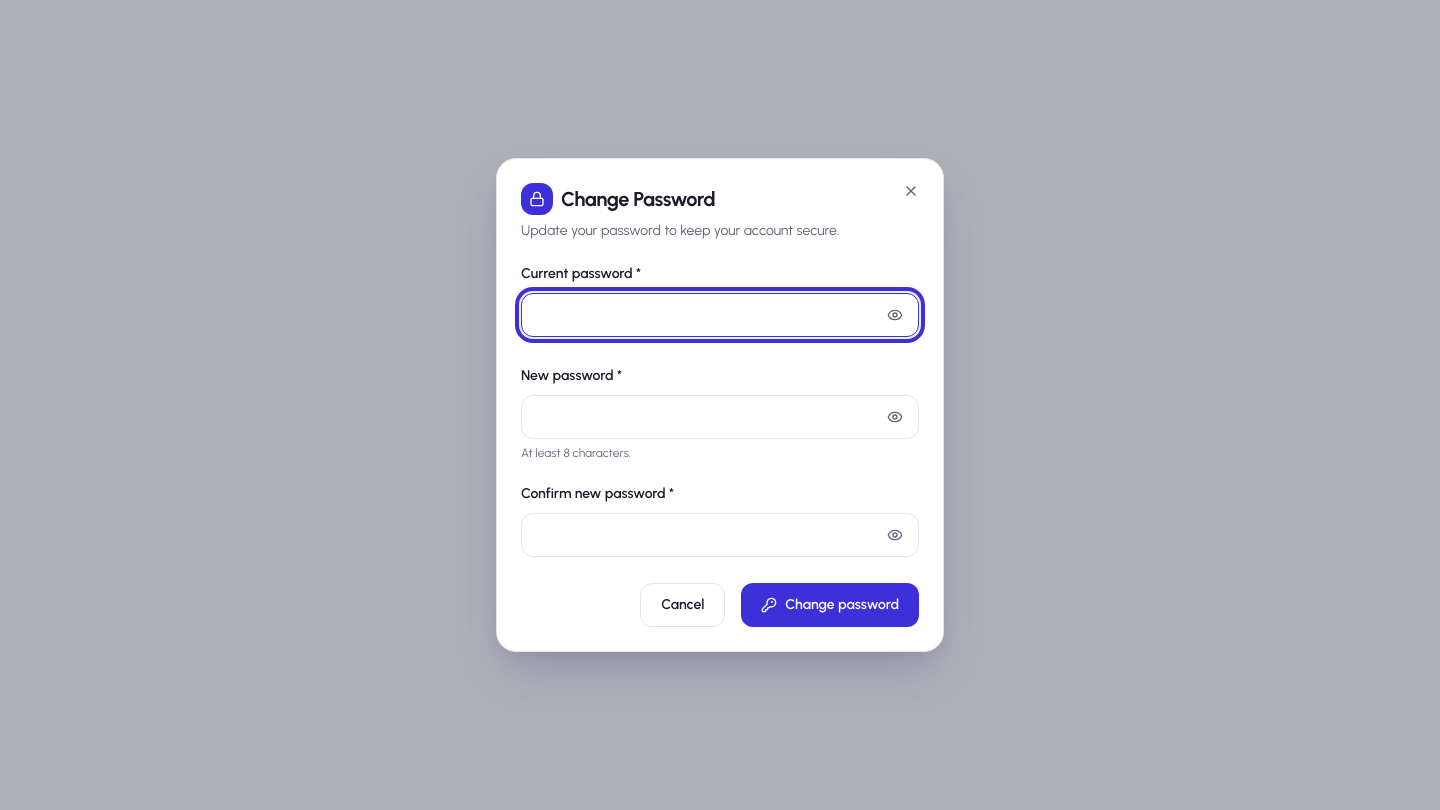
ChangePasswordDialog › catches a mismatch and a reused password
This screenshot has width=1440, height=810.
Type "Old-Passw0rd" into the password field labelled "Current password *" at [720, 315], box [521,293,919,337]
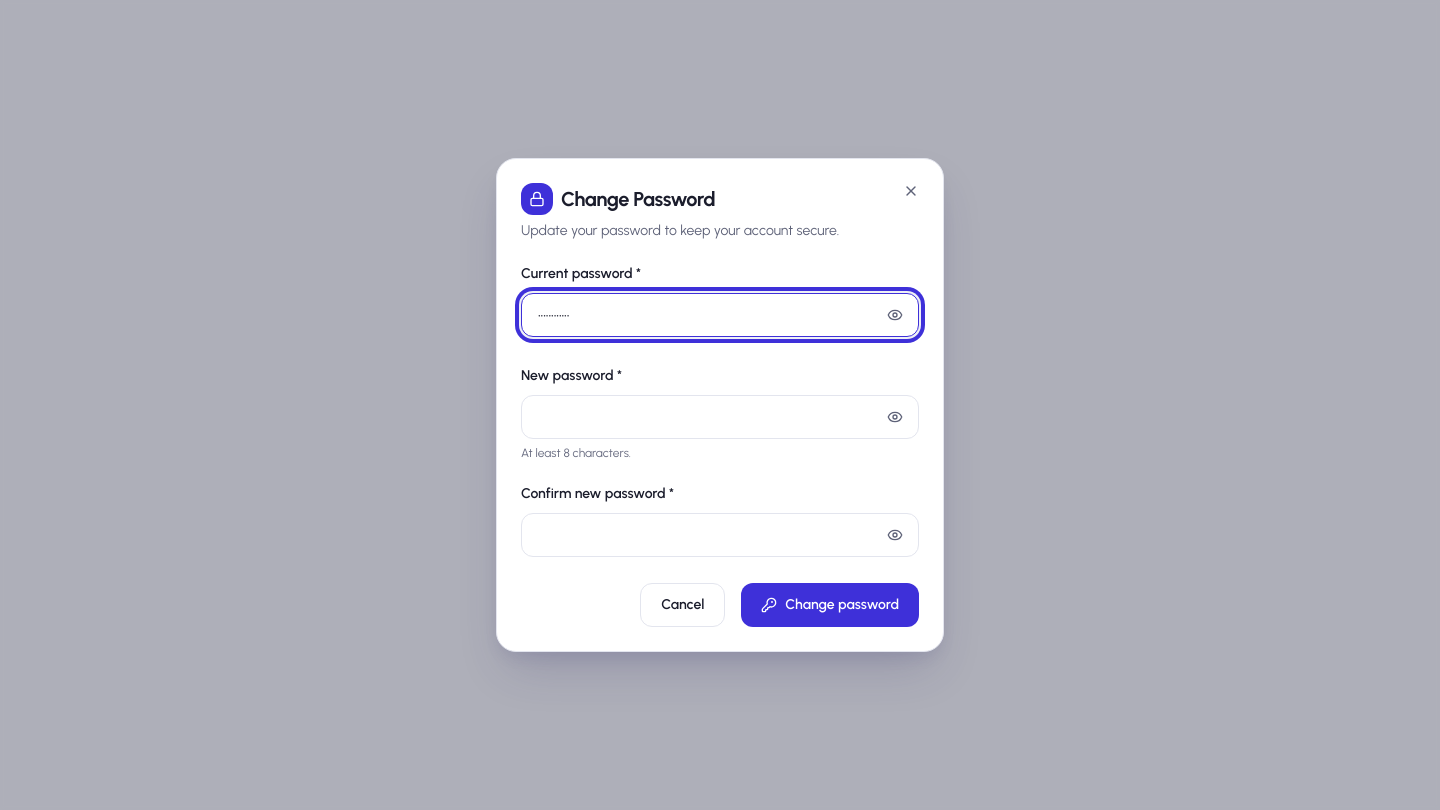
Type "Quiet-River-83" into the password field labelled "New password *" at [720, 417], box [521,395,919,439]
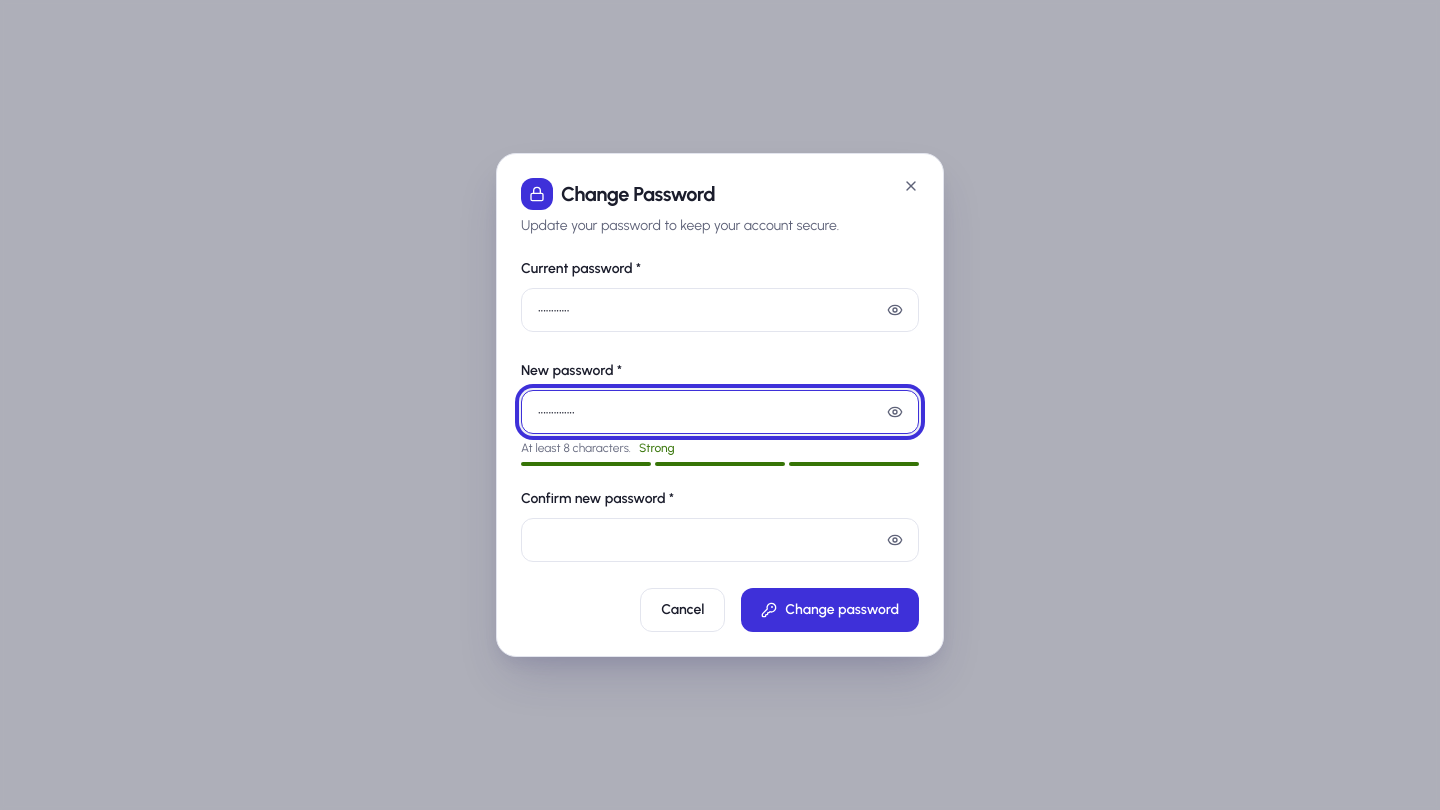
Type "Quiet-River-84" into the password field labelled "Confirm new password *" at [720, 540], box [521,518,919,562]
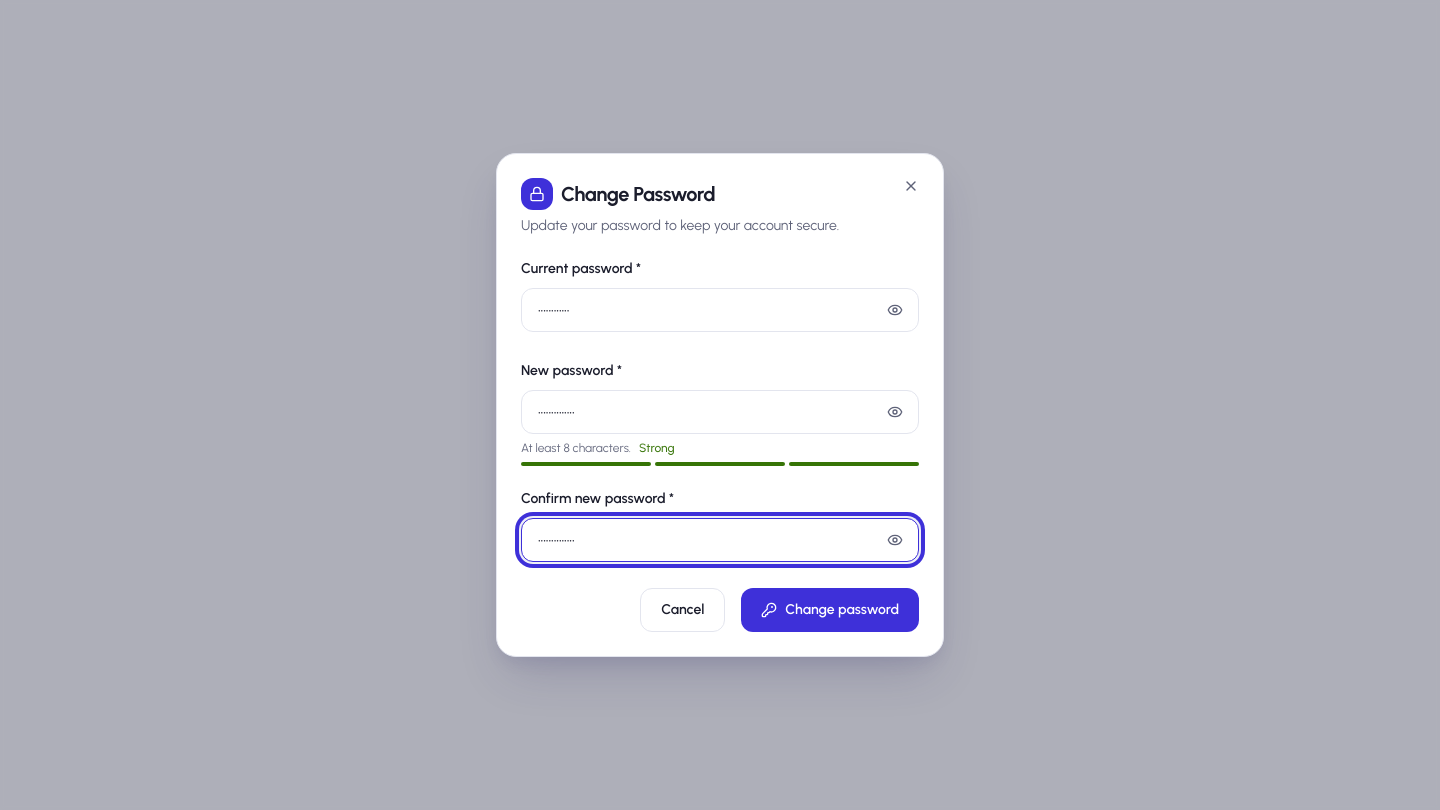
Click the button "Change password" at [830, 610], box [741,588,919,632]
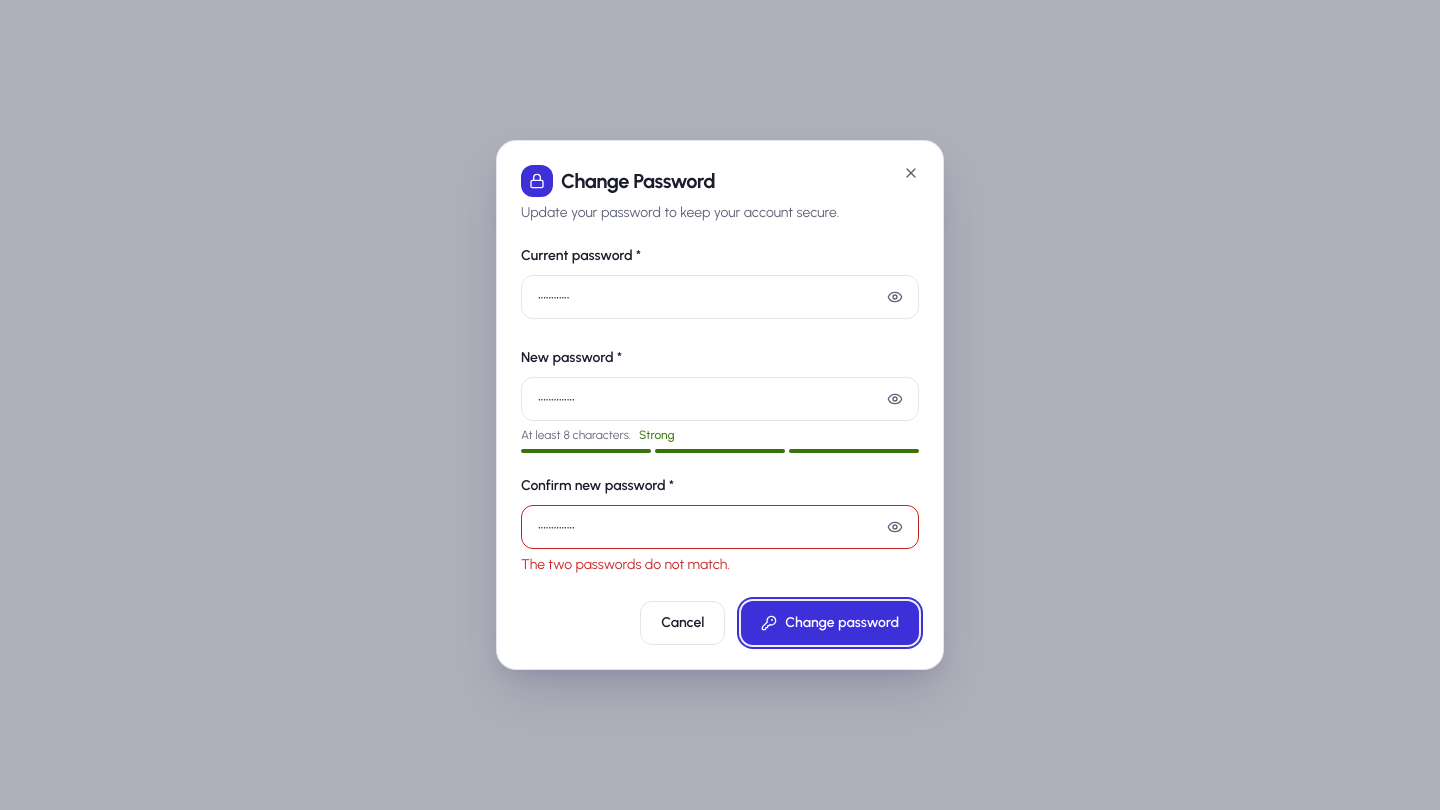
expect the text "The two passwords do not match." is shown: met, box [521,556,730,573]
